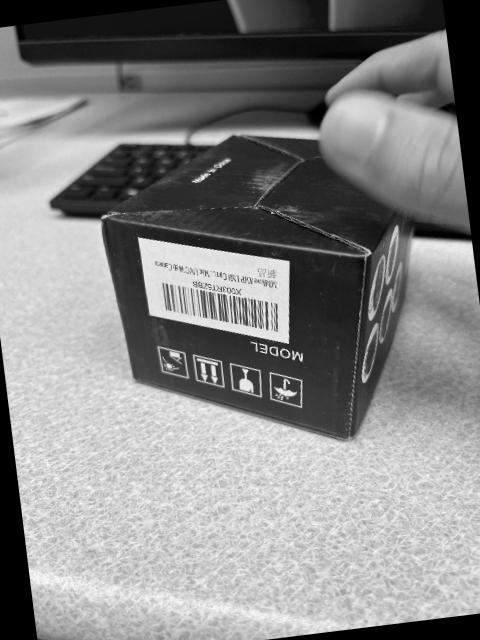CameraBox2: (101, 137, 414, 441)
